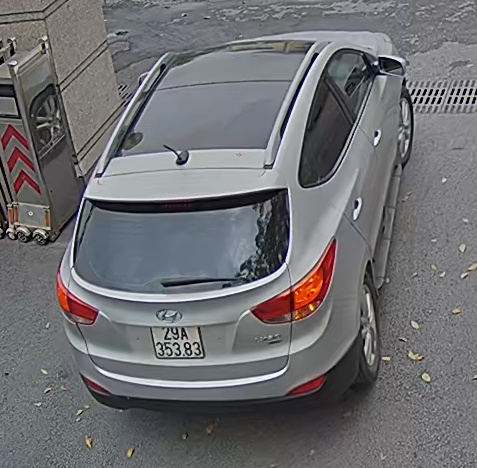vehicle plate: (146, 318, 207, 362)
